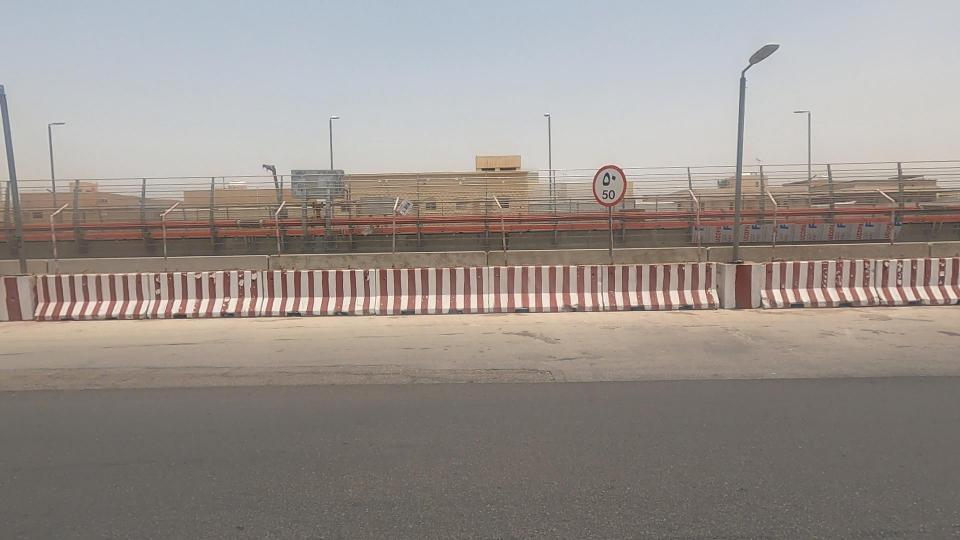CONSTRUCTION_ROAD: (0, 145, 431, 379), (283, 188, 729, 358), (588, 172, 960, 374)
